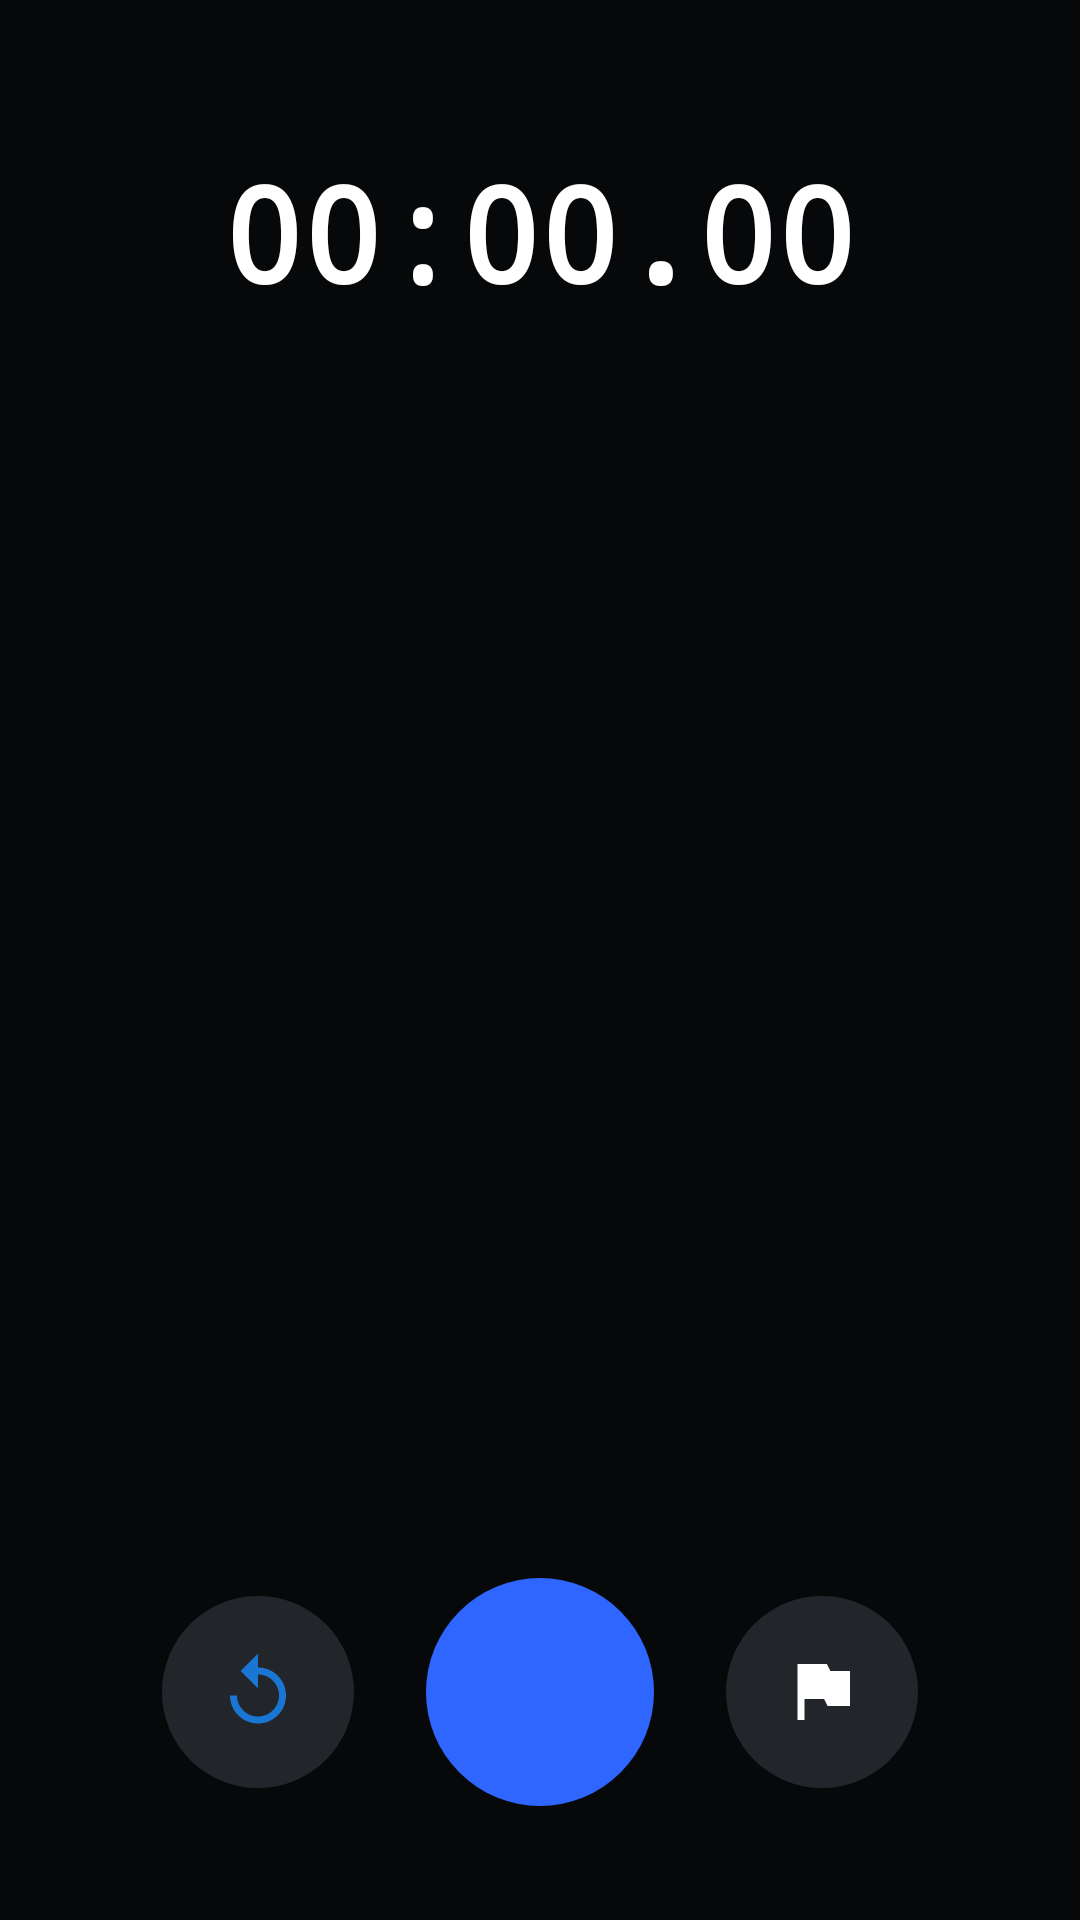

Where icons sit on this 1080px x 1920px app screen, as (x1, y1, x2, y2):
Lap: (726, 1596, 918, 1788)
Reset: (162, 1596, 354, 1788)
